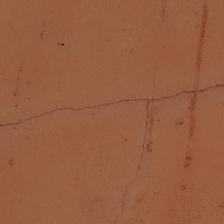Crack: (60, 55, 166, 216), (197, 0, 224, 102)
